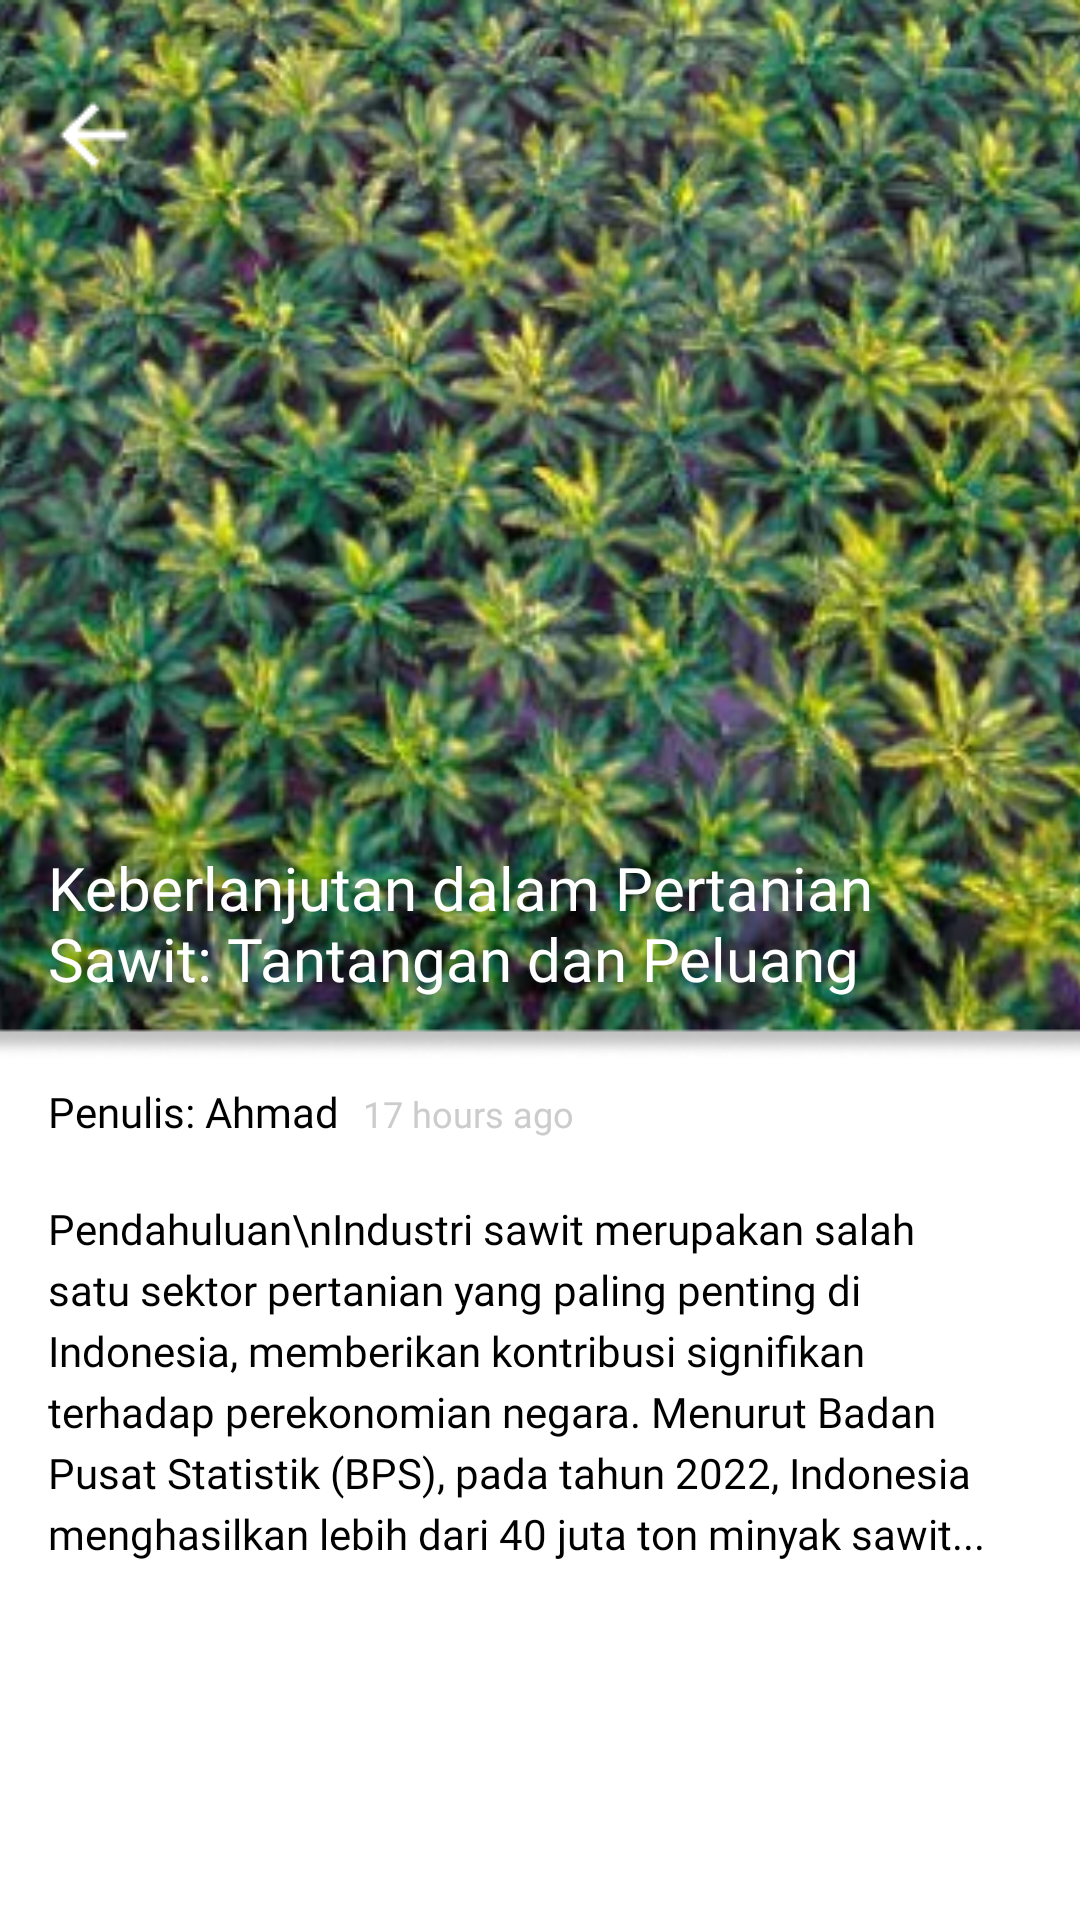

Point at icon controls on the screen. Image size 1080px×1920px, points as [x,y].
kembali isi artikel: [93,135]
